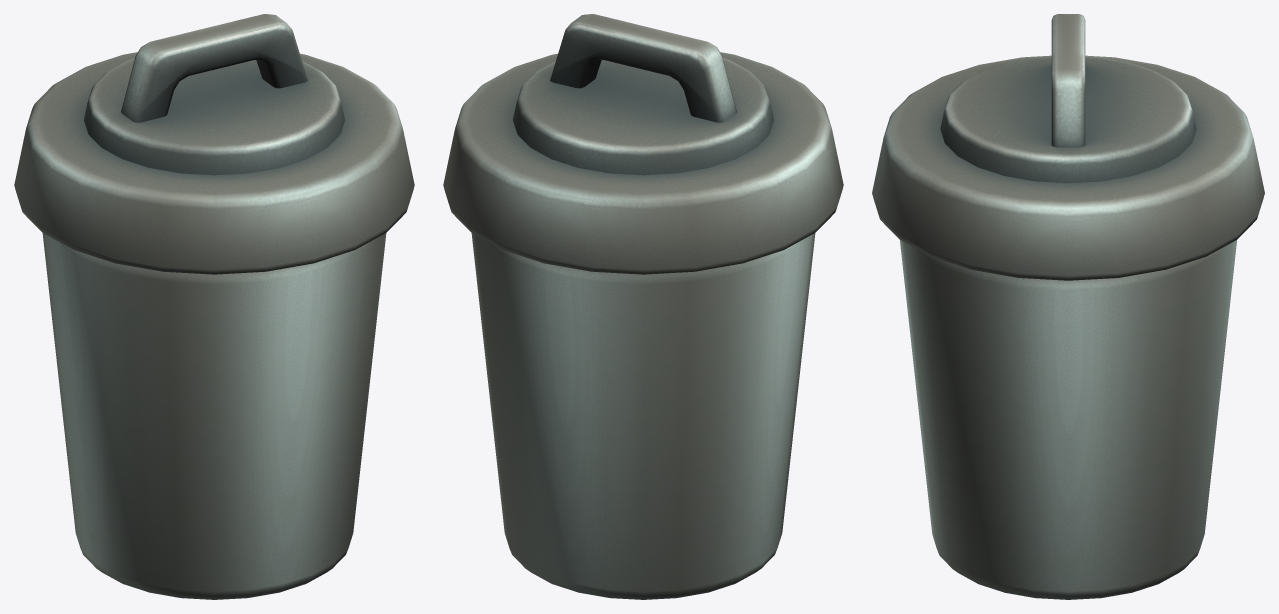
File: GarbageCan.fbx
3 renders of one model, left to right at view 1: azimuth 30°, elevation 25°; view 2: azimuth 150°, elevation 25°; view 3: azimuth 270°, elevation 25°, orthographic.
Parts seen in each view (by area): view 1: GarbageCan_Base, GarbageCan_Top; view 2: GarbageCan_Base, GarbageCan_Top; view 3: GarbageCan_Base, GarbageCan_Top.
Boxes of the visible parts, x1,y1,x2,y2 form: GarbageCan_Base: [42, 233, 386, 599]; GarbageCan_Top: [14, 14, 414, 274]; GarbageCan_Base: [471, 233, 815, 599]; GarbageCan_Top: [443, 14, 843, 274]; GarbageCan_Base: [900, 240, 1236, 599]; GarbageCan_Top: [872, 14, 1264, 280].
Bounding box in the file's own units: 137 × 194 × 137.
